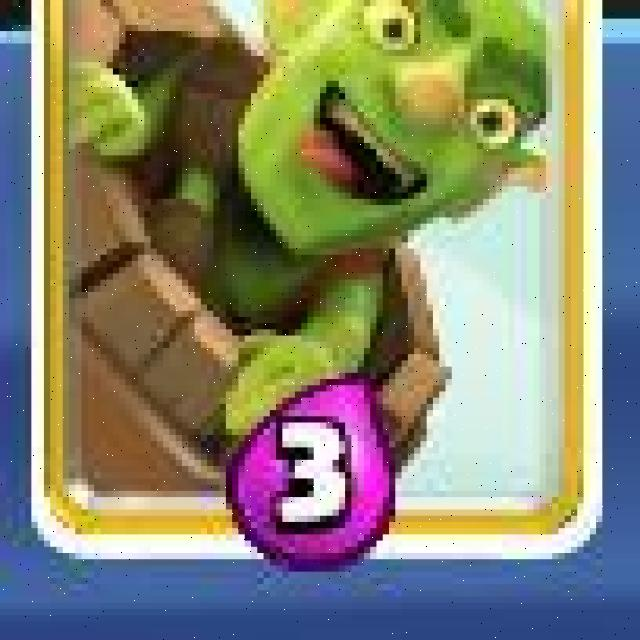Goblin_Barrel: (29, 0, 607, 563)
